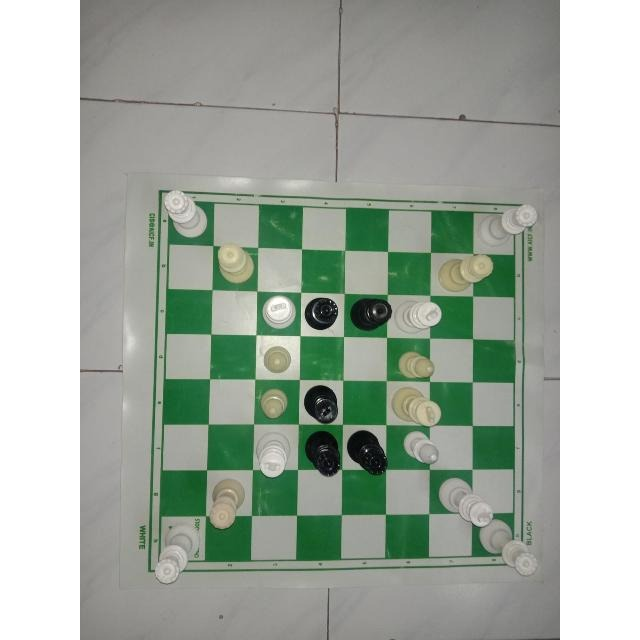black-king: (301, 381, 340, 425)
black-queen: (348, 426, 390, 480), (303, 428, 343, 480), (349, 295, 391, 330), (302, 295, 338, 333)
white-bishop: (401, 430, 443, 466), (395, 347, 435, 384), (256, 382, 290, 423), (259, 341, 297, 377)
white-king: (438, 476, 494, 530), (248, 432, 294, 480), (392, 385, 443, 427), (390, 296, 444, 334), (259, 291, 295, 330)
white-queen: (481, 518, 538, 578), (152, 524, 200, 588), (474, 204, 540, 248), (434, 250, 496, 294), (158, 186, 210, 238), (205, 474, 249, 530), (213, 242, 255, 286)
